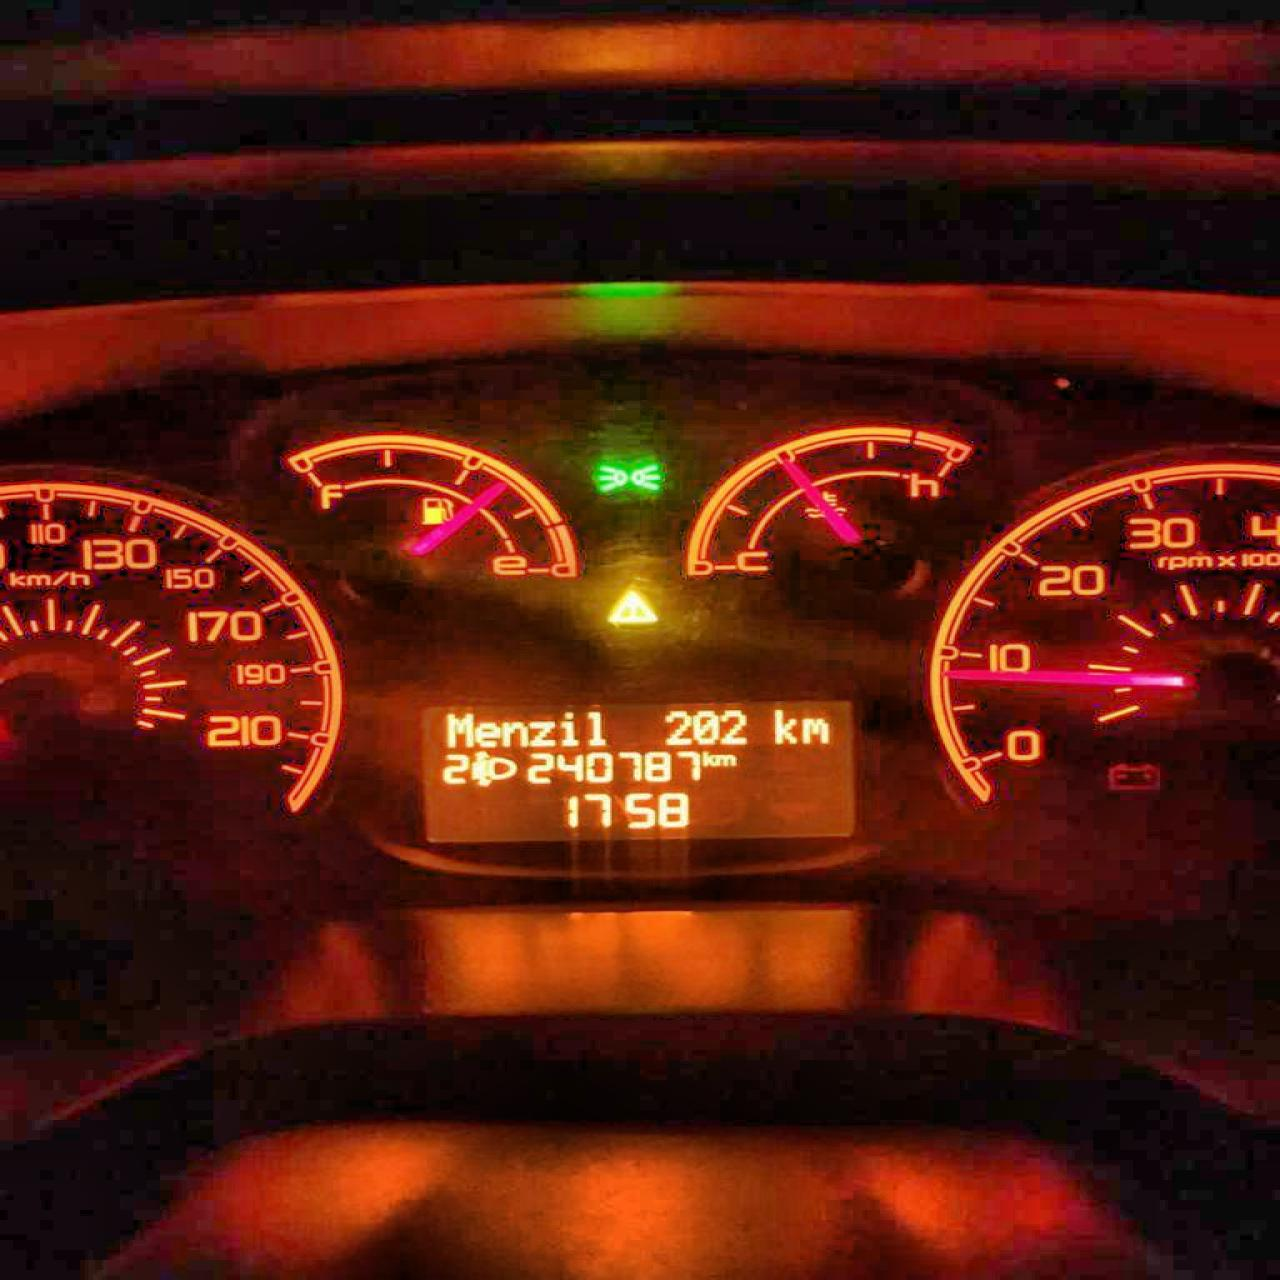0: (692, 707, 716, 744), (584, 750, 612, 782)
1: (564, 791, 580, 830)
2: (716, 708, 747, 743), (663, 707, 692, 744), (525, 751, 553, 785), (440, 751, 468, 785)
4: (554, 750, 584, 781)
5: (620, 790, 655, 830)
7: (581, 791, 611, 828), (673, 749, 700, 779), (617, 749, 641, 779)
8: (656, 790, 690, 828), (641, 749, 672, 782)
X: (444, 710, 474, 749), (771, 706, 797, 745), (584, 708, 608, 747), (798, 715, 829, 745), (526, 719, 556, 747), (557, 710, 578, 745), (501, 720, 526, 745), (474, 720, 498, 745), (714, 753, 738, 767), (701, 749, 712, 767)
odometer: (416, 693, 871, 844)
